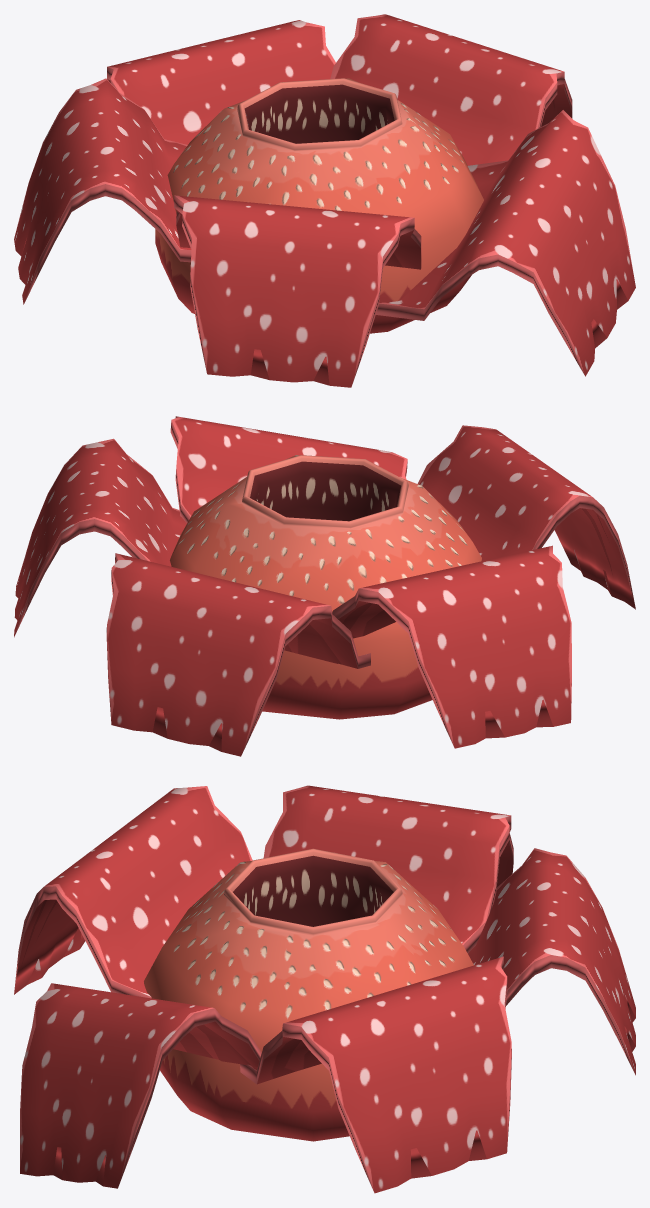
Rendered from raff.fbx.
3 renders of one model, top to bottom at view 1: azimuth 30°, elevation 25°; view 2: azimuth 150°, elevation 25°; view 3: azimuth 270°, elevation 25°, orthographic. The views are drawn at different scales.
Visible parts, largest first — view 1: Poisonous_flower; view 2: Poisonous_flower; view 3: Poisonous_flower.
Part boxes in pixels (x1,y1,x2,y2): Poisonous_flower: (14,14,635,387); Poisonous_flower: (14,416,635,756); Poisonous_flower: (14,785,635,1193).
Size of the model in its own units: 911 by 315 by 823.
Materials: 1 (1 with a texture image).
